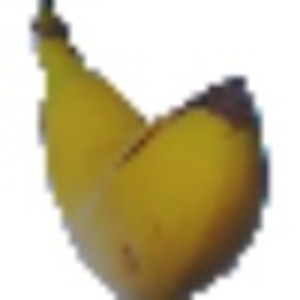banana: (16, 3, 276, 299)
